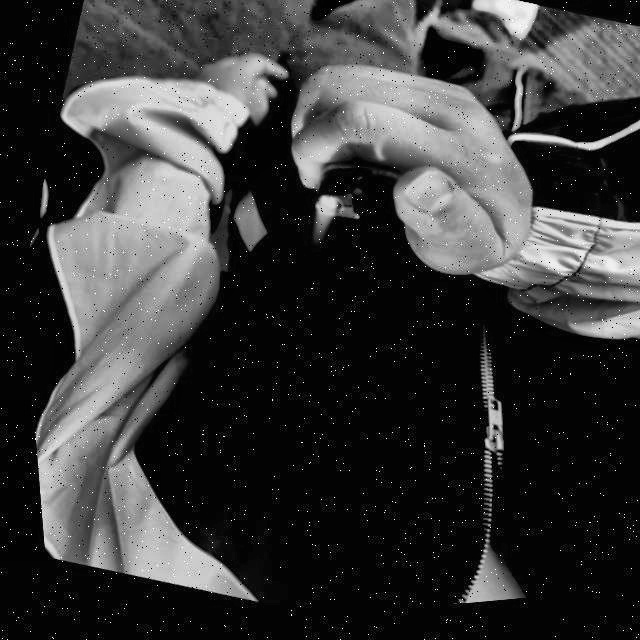Fire: (298, 208, 331, 253)
